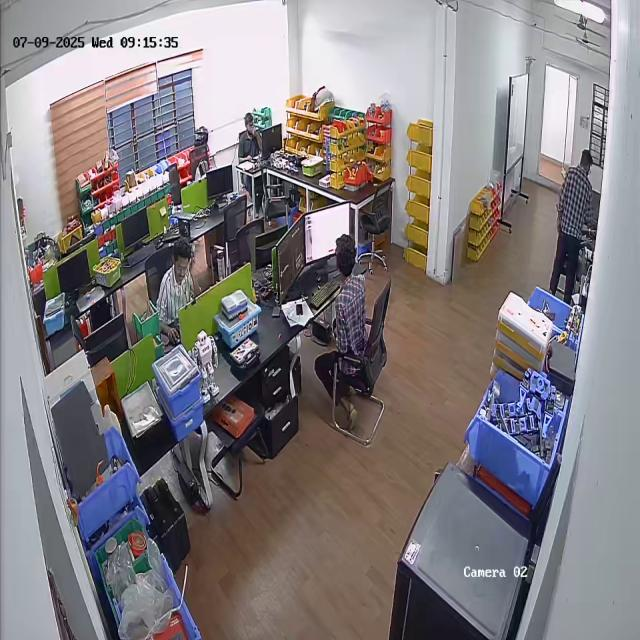person: (324, 234, 374, 376), (550, 146, 594, 300), (156, 239, 201, 326), (241, 113, 263, 158)
